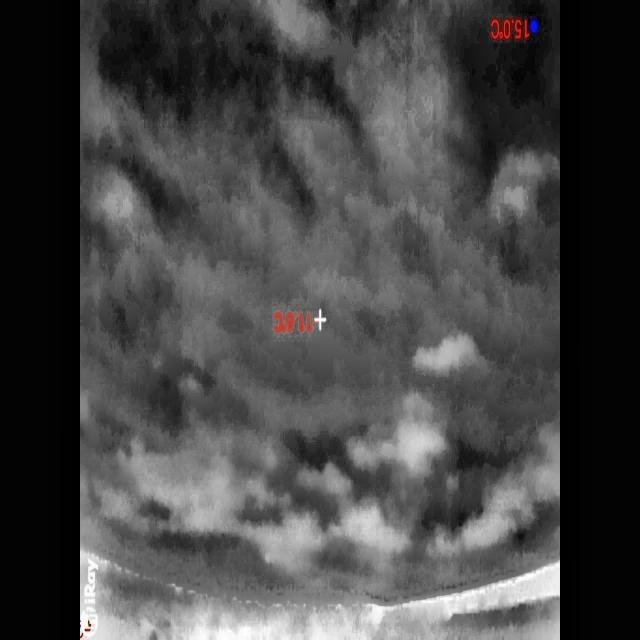drone: (264, 551, 272, 564)
